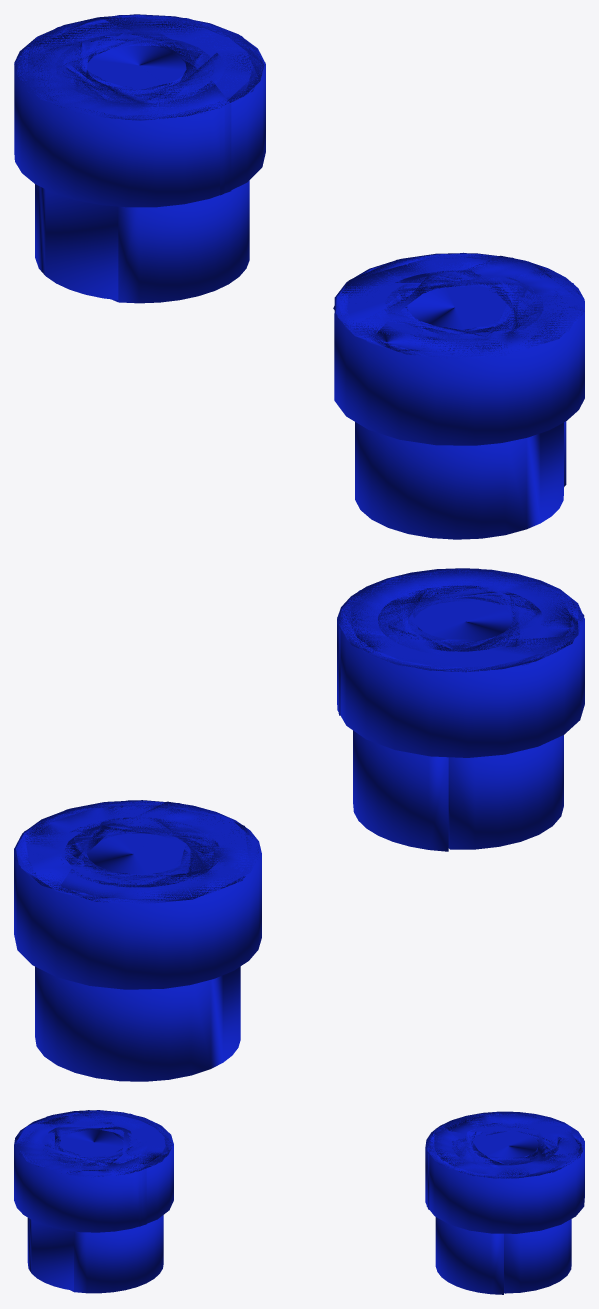
The model's file is tuyeau_element_000068.obj.
3 renders of one model, top to bottom at view 1: azimuth 30°, elevation 25°; view 2: azimuth 150°, elevation 25°; view 3: azimuth 270°, elevation 25°, orthographic. The views are drawn at different scales.
Parts seen in each view (by area): view 1: tuyeau1_Cube.014, tuyeau2_Cube.017; view 2: tuyeau2_Cube.017, tuyeau1_Cube.014; view 3: tuyeau2_Cube.017, tuyeau1_Cube.014.
Part boxes in pixels (left/top/right/bottom): tuyeau1_Cube.014: left=14, top=14, right=265, bottom=303; tuyeau2_Cube.017: left=333, top=252, right=584, bottom=539; tuyeau2_Cube.017: left=337, top=568, right=584, bottom=851; tuyeau1_Cube.014: left=14, top=800, right=261, bottom=1081; tuyeau2_Cube.017: left=14, top=1110, right=173, bottom=1293; tuyeau1_Cube.014: left=425, top=1111, right=584, bottom=1294.
Bounding box in the file's own units: 3592 × 2917 × 12572.
